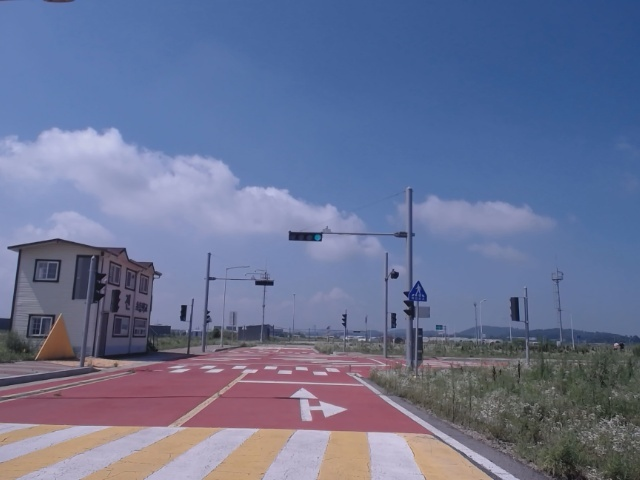straight_green_4: (289, 232, 322, 241)
